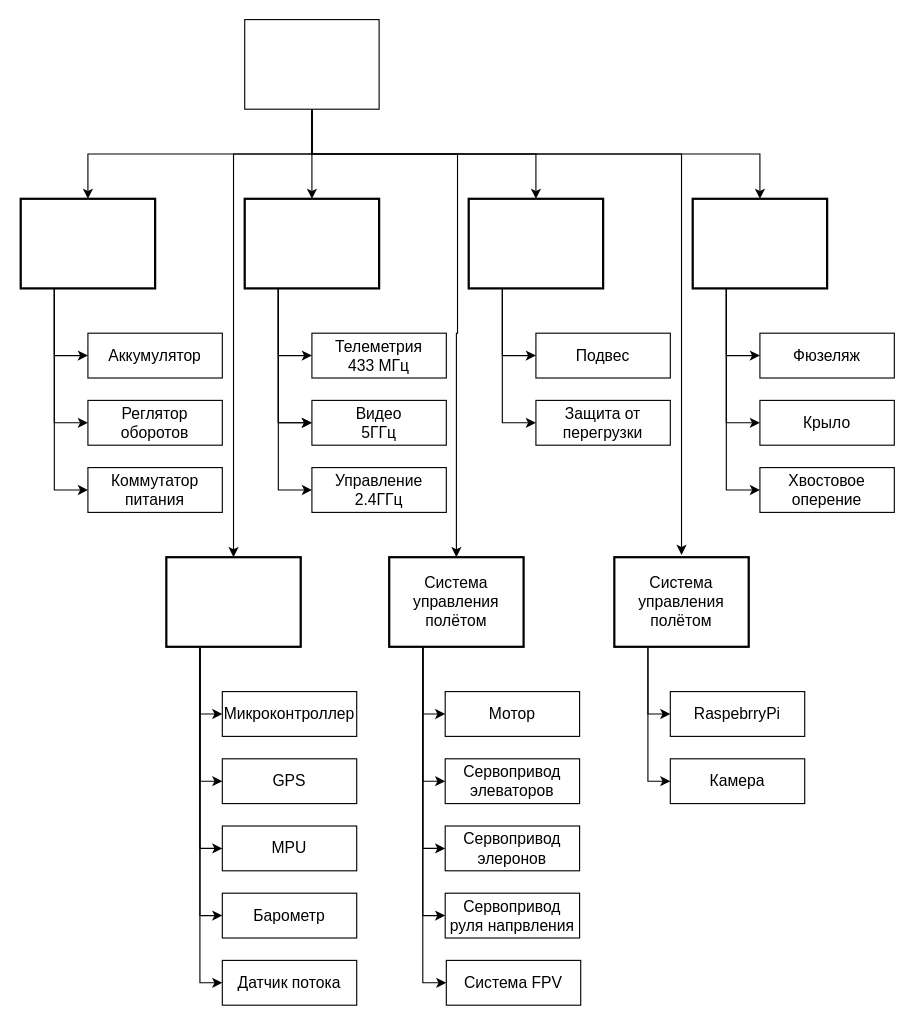
Some shapes in this 914 by 1025 pixel diagram are drawn without their labels. The shapes that lost their labels are listed below. From the top down, each one's box as (x1, y1, x2, y2) in pixels, then its label:
(244, 18, 379, 109): БПЛА ФАКИшники
(19, 197, 156, 289): Система питания
(243, 197, 380, 289): Система связи
(467, 197, 604, 289): Система доставки груза
(691, 197, 828, 289): Механика
(165, 556, 301, 647): Система контроля полёта
